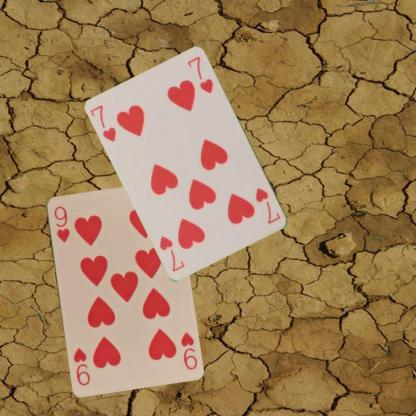7h: (88, 102, 118, 144), (253, 185, 282, 227)
9h: (178, 329, 198, 371), (51, 203, 71, 244)
